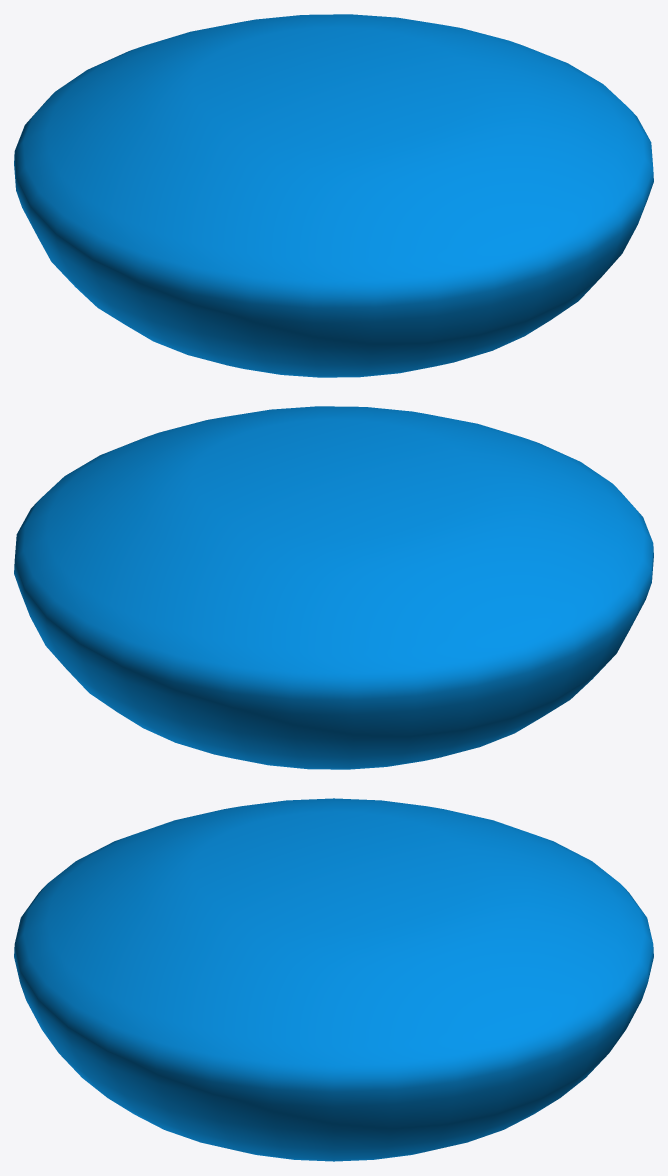
The model's file is SET_COLOR.glb.
3 renders of one model, top to bottom at view 1: azimuth 30°, elevation 25°; view 2: azimuth 150°, elevation 25°; view 3: azimuth 270°, elevation 25°, orthographic.
Parts seen in each view (by area): view 1: SET.001; view 2: SET.001; view 3: SET.001.
Boxes of the visible parts, bbox=[...] form: SET.001: bbox=[14, 14, 653, 377]; SET.001: bbox=[14, 406, 653, 769]; SET.001: bbox=[14, 798, 653, 1161].
Size of the model in its own units: 54.67 by 20 by 54.67.
